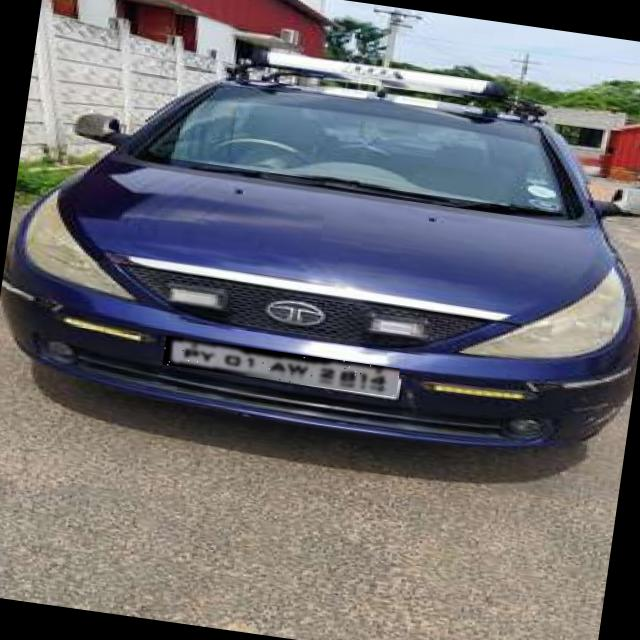Plate: (164, 337, 402, 399)
